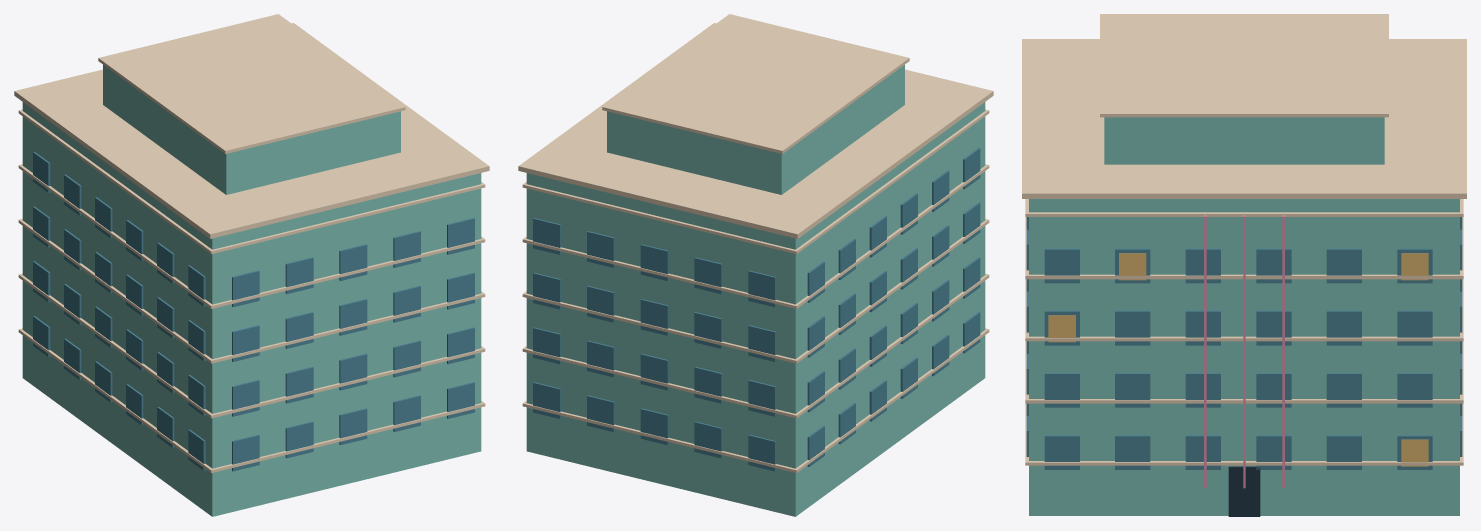
The model's file is building-deco.obj.
3 views of the same model, side by side, from view 1: azimuth 30°, elevation 25°; view 2: azimuth 150°, elevation 25°; view 3: azimuth 270°, elevation 25° (orthographic). The views are drawn at different scales.
Visible parts, largest first — view 1: building-deco; view 2: building-deco; view 3: building-deco.
Part boxes in pixels (bbox=[...]): building-deco: bbox=[14, 14, 489, 516]; building-deco: bbox=[518, 14, 993, 516]; building-deco: bbox=[1022, 14, 1466, 516].
Size of the model in its own units: 18.7 by 21.25 by 22.7.
